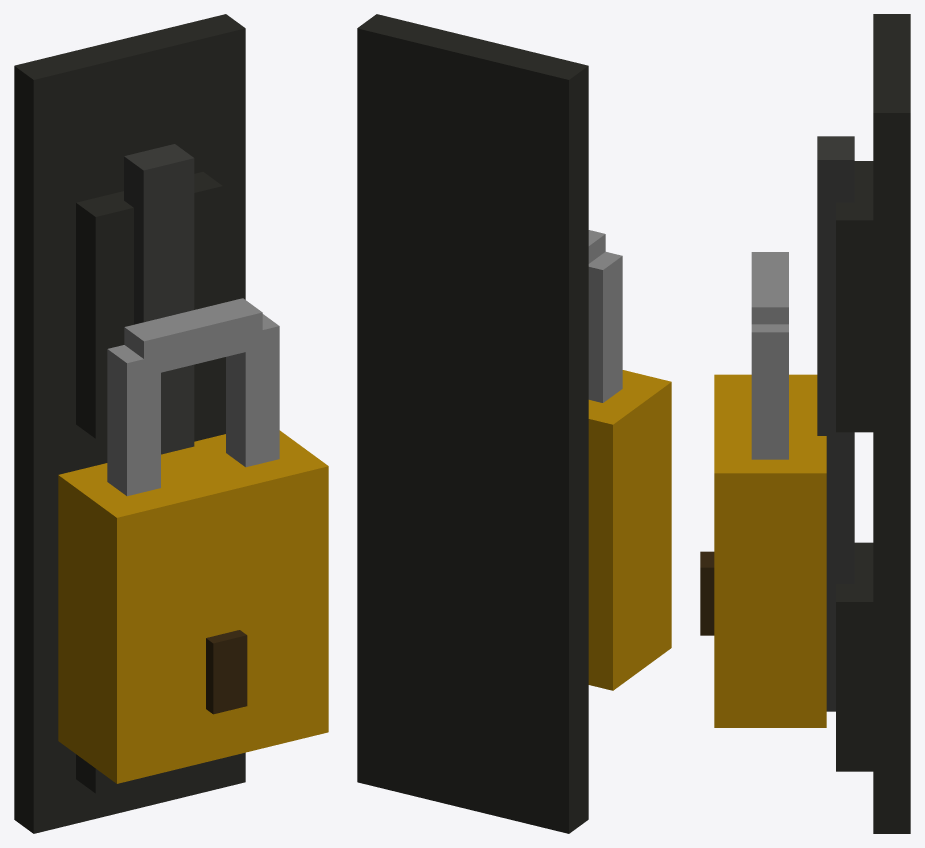
The model's file is KhoaCua_Hasp.glb.
3 renders of one model, left to right at view 1: azimuth 30°, elevation 25°; view 2: azimuth 150°, elevation 25°; view 3: azimuth 270°, elevation 25°, orthographic. The views are drawn at different scales.
Visible parts, largest first — view 1: KhoaCua_Hasp, KhoaCua_Hasp_2, KhoaCua_Hasp_3, KhoaCua_Hasp_1, KhoaCua_Hasp_4; view 2: KhoaCua_Hasp, KhoaCua_Hasp_2, KhoaCua_Hasp_3; view 3: KhoaCua_Hasp, KhoaCua_Hasp_2, KhoaCua_Hasp_1, KhoaCua_Hasp_3, KhoaCua_Hasp_4.
Boxes of the visible parts, left/top/right/bottom form: KhoaCua_Hasp: left=14, top=14, right=245, bottom=833; KhoaCua_Hasp_2: left=58, top=430, right=328, bottom=783; KhoaCua_Hasp_3: left=107, top=298, right=279, bottom=496; KhoaCua_Hasp_1: left=124, top=144, right=194, bottom=454; KhoaCua_Hasp_4: left=206, top=630, right=247, bottom=714; KhoaCua_Hasp: left=357, top=14, right=588, bottom=833; KhoaCua_Hasp_2: left=588, top=370, right=671, bottom=690; KhoaCua_Hasp_3: left=588, top=230, right=622, bottom=402; KhoaCua_Hasp: left=836, top=14, right=910, bottom=833; KhoaCua_Hasp_2: left=714, top=374, right=826, bottom=727; KhoaCua_Hasp_1: left=817, top=136, right=854, bottom=711; KhoaCua_Hasp_3: left=751, top=252, right=788, bottom=459; KhoaCua_Hasp_4: left=700, top=551, right=714, bottom=635.
Bounding box in the file's own units: 0.05 × 0.17 × 0.045.
